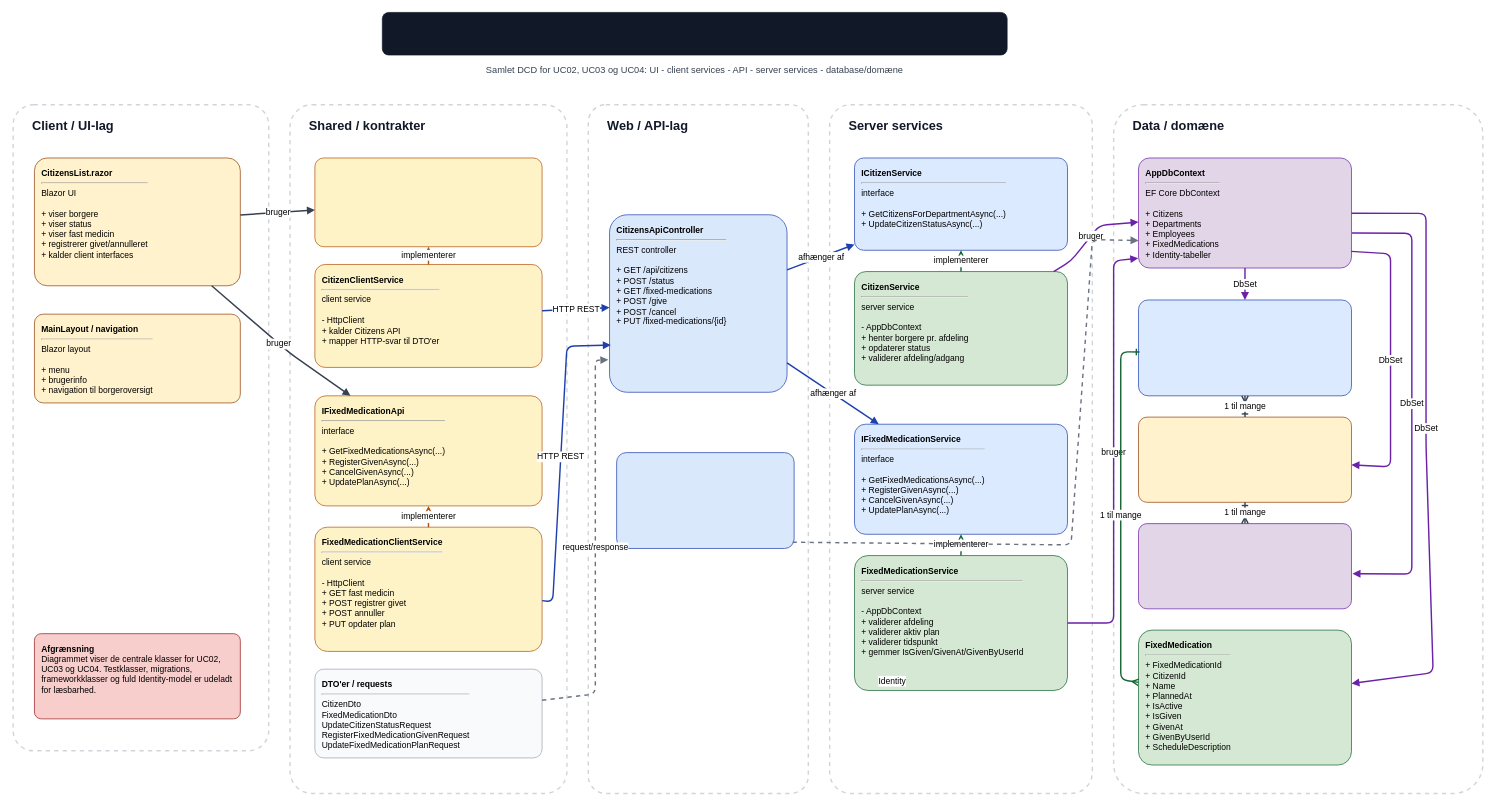
Image size: 1495x807. Some labels were removed from this diagram. Each missing label, with the centre of its shape:
"AuthController REST controller + login + udsteder JWT + bruger Identity" goes at pixel 705 500.
"Citizen + CitizenId + Name + Status + DepartmentId + FixedMedications" goes at pixel 1244 347.
"Department + DepartmentId + Name + Citizens + Employees" goes at pixel 1244 459.
"Design Class Diagram - VIGOR" goes at pixel 694 33.
"Employee + EmployeeId + Name + IdentityUserId + DepartmentId" goes at pixel 1244 566.
"ICitizenApi interface + GetCitizensAsync() + UpdateStatusAsync(...)" goes at pixel 428 202.
